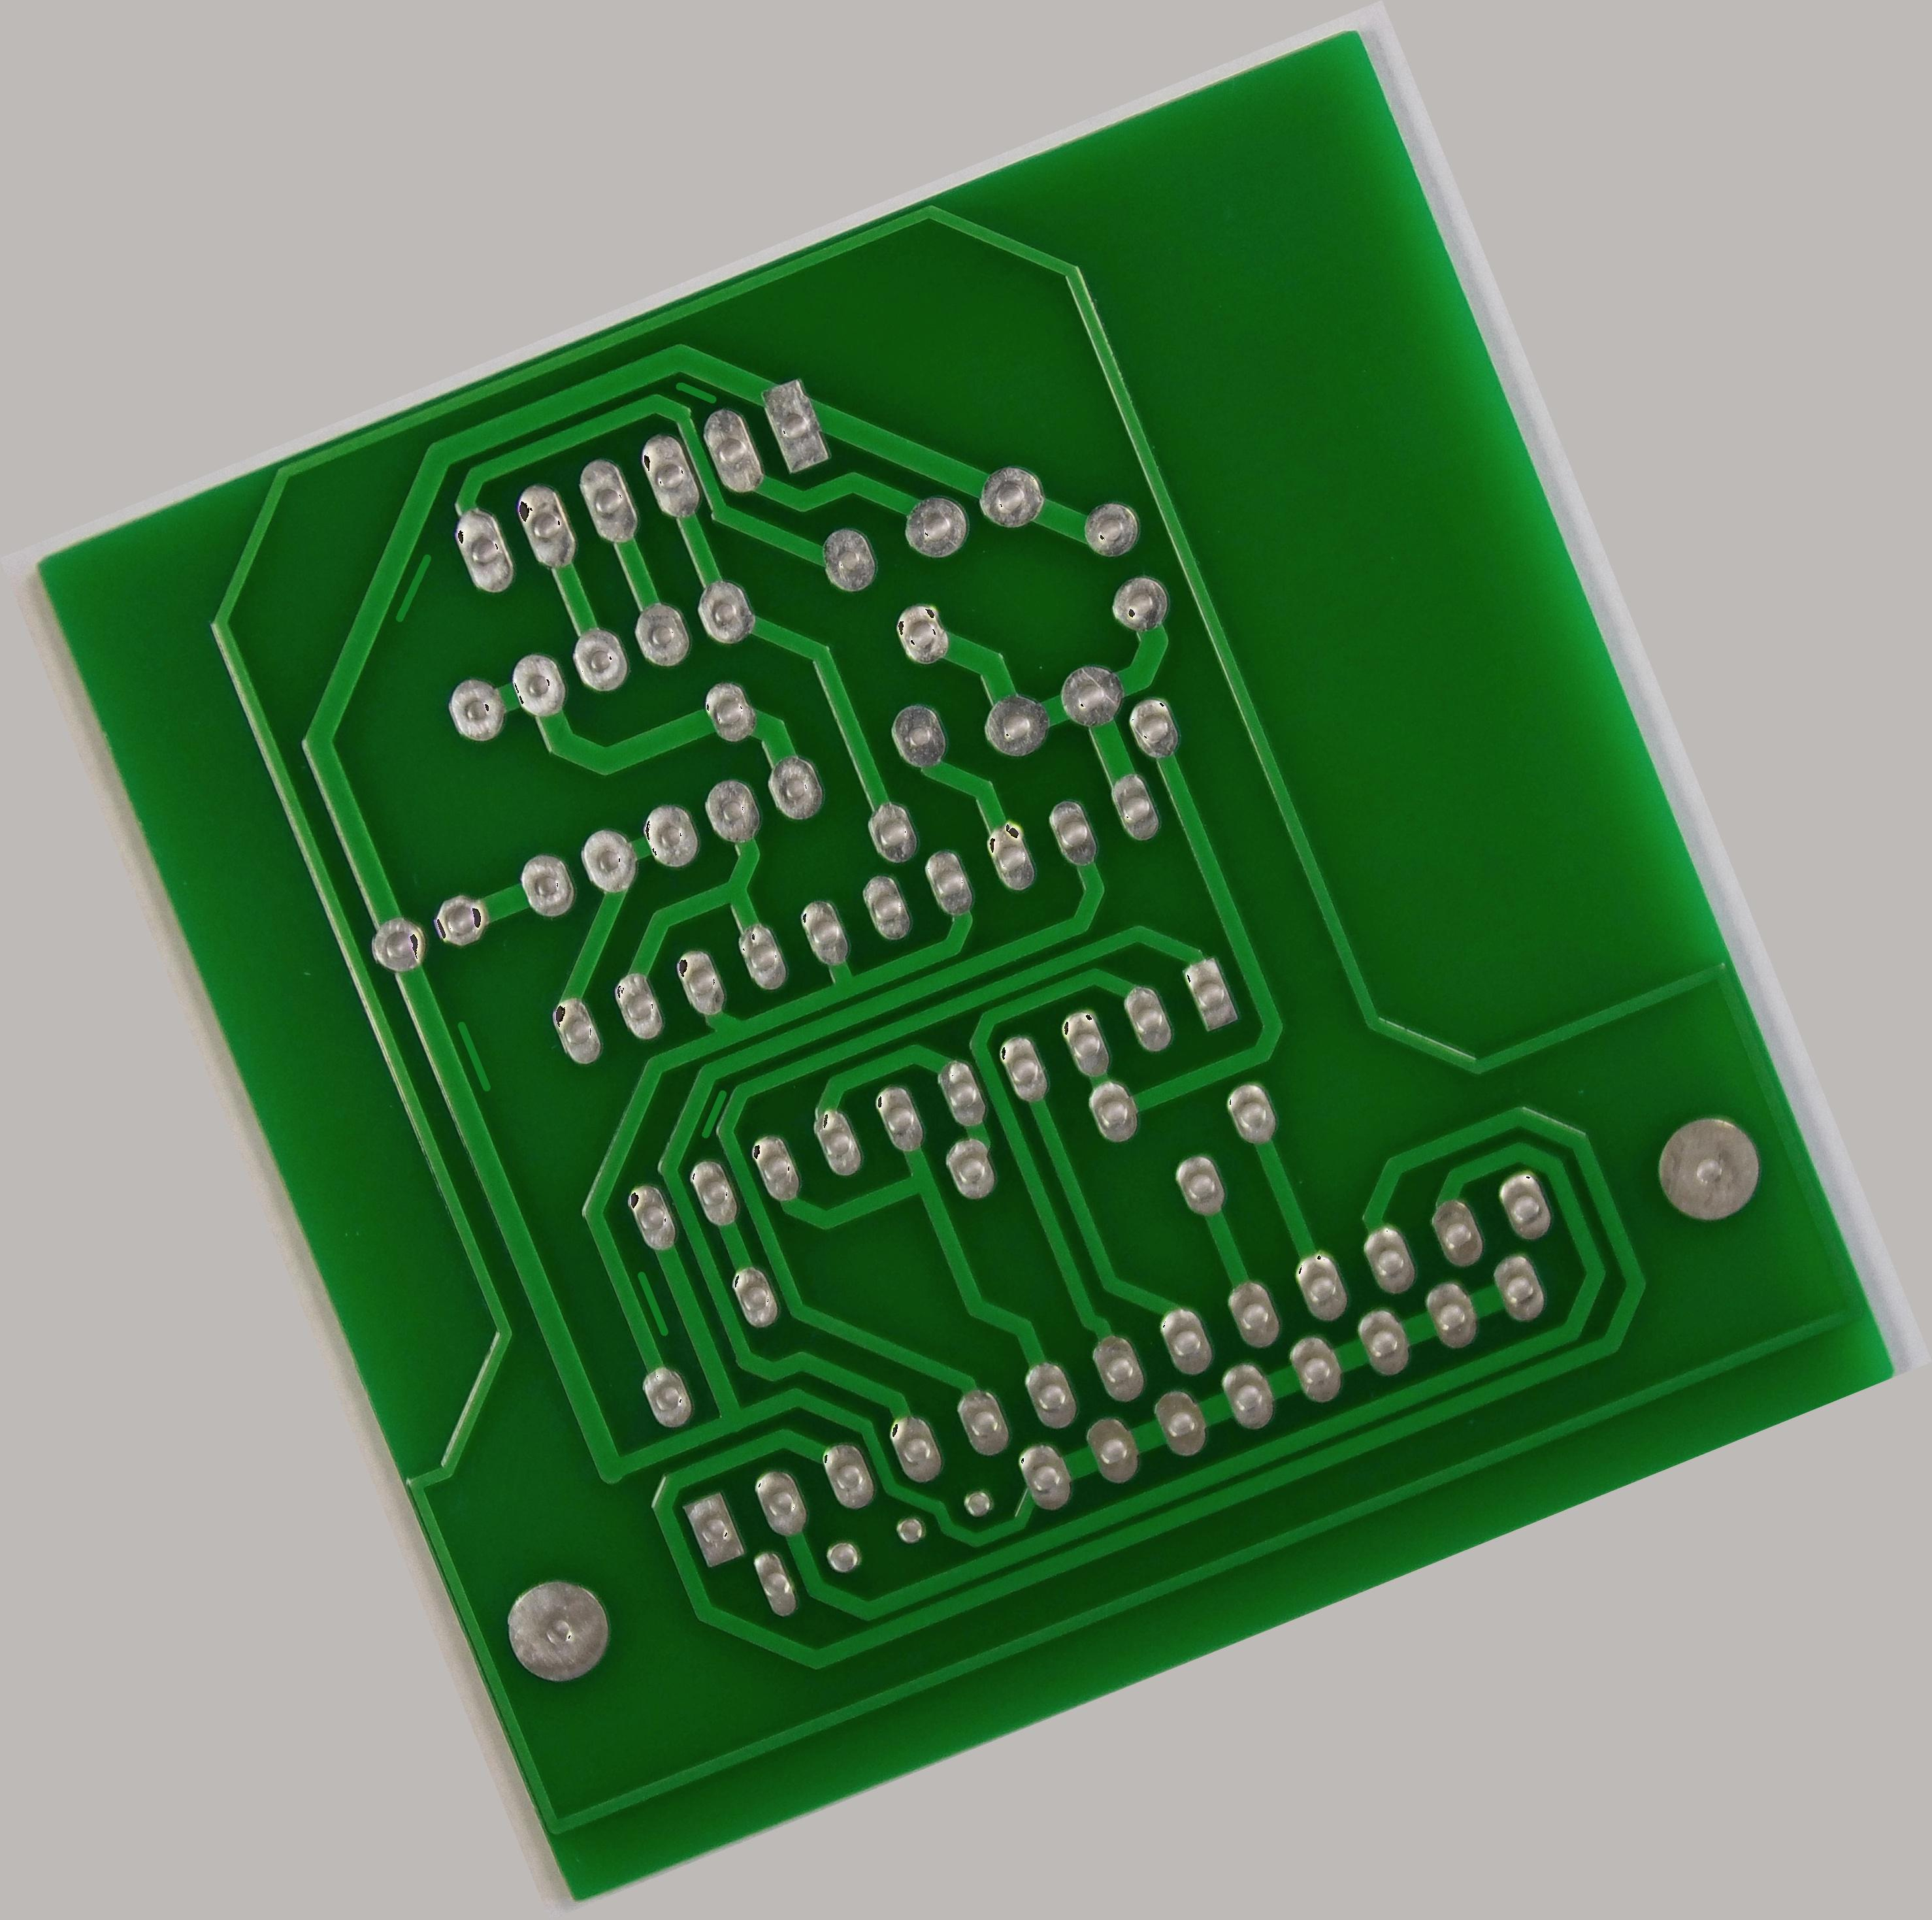spurious_copper: (353, 542, 469, 644), (432, 1002, 513, 1108), (615, 1255, 686, 1354), (672, 1074, 747, 1146), (656, 359, 726, 431)
